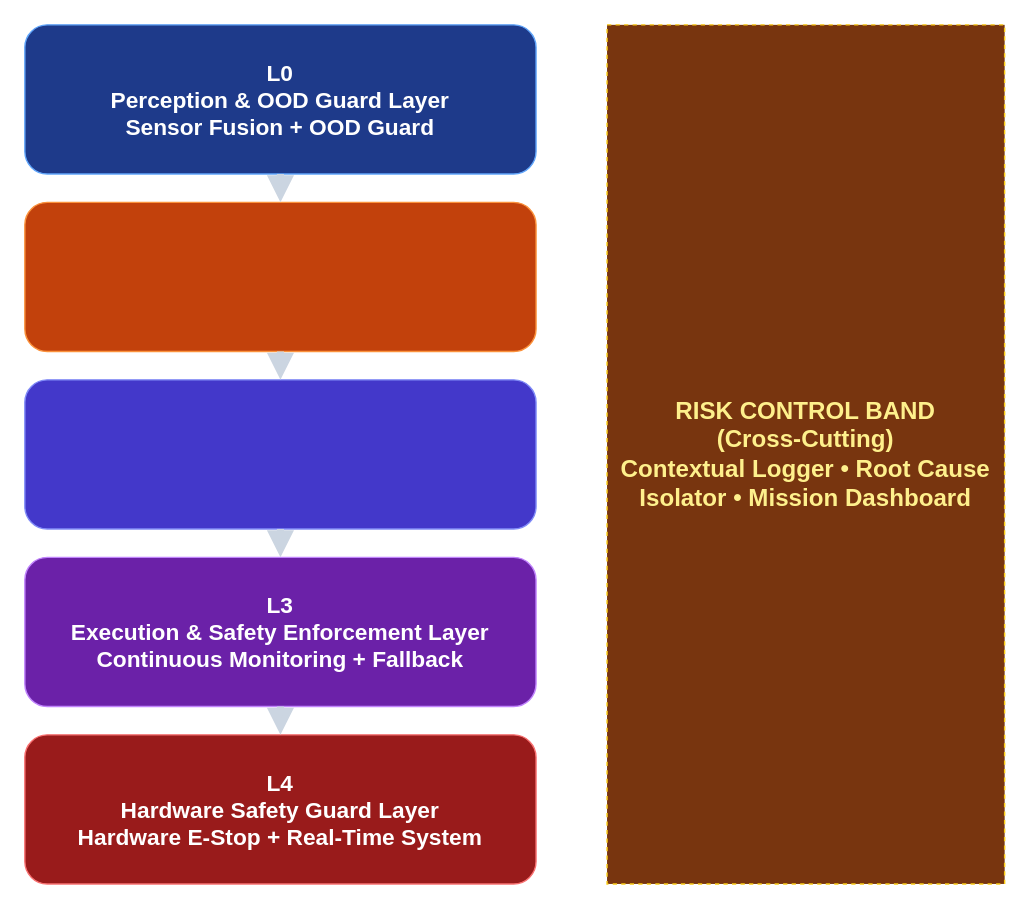
The diagram is 1030 pixels wide and 909 high, and some of its shapes have lost their labels. Each missing label, with the centre of its shape:
"L1 Simulation Preflight Guard Layer Isaac Lab Fast Simulation" goes at pixel 279 276.
"L2 Physical & Kinematic Guard Layer Joint Limits, Velocity, Workspace" goes at pixel 279 453.
